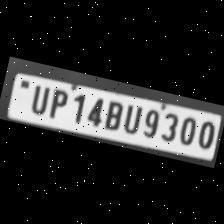0: (174, 111, 199, 145), (194, 116, 218, 149)
1: (64, 88, 89, 124)
3: (156, 108, 181, 142)
4: (82, 92, 106, 128)
9: (138, 104, 162, 138)
B: (100, 96, 126, 130)
P: (44, 84, 72, 120)
U: (24, 79, 52, 115), (120, 99, 145, 134)
